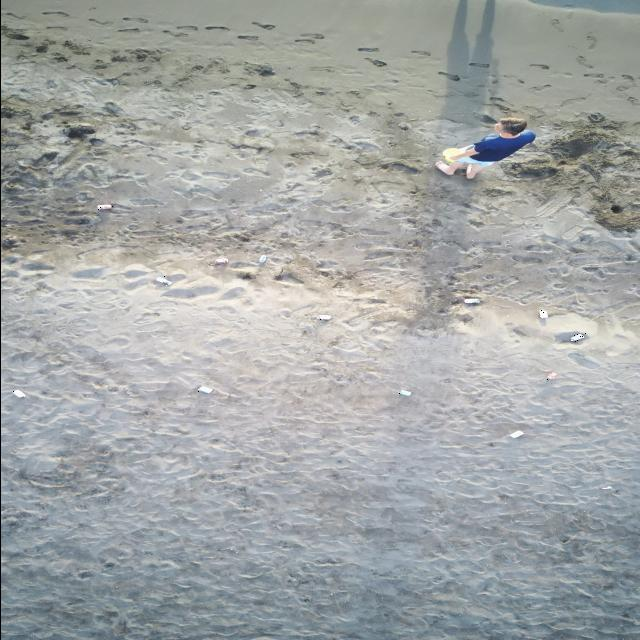Garbage: (64, 123, 95, 139), (555, 329, 587, 343), (442, 147, 463, 163), (569, 332, 584, 340), (155, 276, 172, 283), (213, 256, 227, 264), (12, 388, 24, 396), (196, 386, 212, 392), (510, 430, 523, 437), (316, 313, 331, 319), (464, 298, 480, 303), (539, 308, 547, 318), (98, 203, 111, 209), (400, 388, 411, 395), (547, 371, 556, 379), (259, 255, 267, 263), (600, 484, 612, 488)
